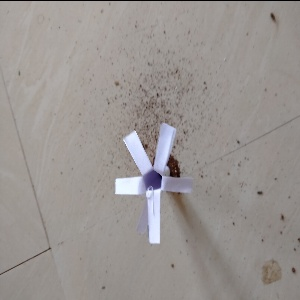weed: (113, 123, 194, 239)
